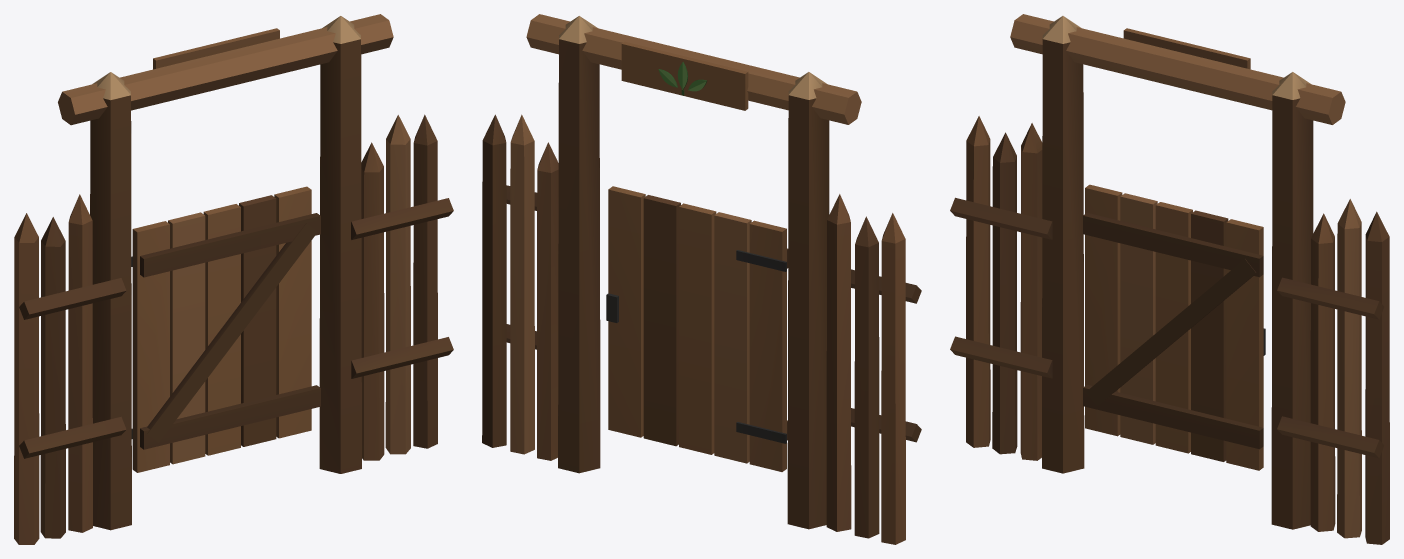
Rendered from fence_gate_low.glb.
The picture shows the model from 3 angles, left to right: view 1: azimuth 30°, elevation 25°; view 2: azimuth 150°, elevation 25°; view 3: azimuth 330°, elevation 25°; orthographic projection.
Visible parts, largest first — view 1: fence_gate, leaf; view 2: fence_gate, leaf; view 3: fence_gate, leaf.
Part boxes in pixels (box(x1,y1,x2,y2)): fence_gate: box(14, 14, 453, 544); leaf: box(131, 186, 320, 472); fence_gate: box(482, 14, 921, 544); leaf: box(606, 186, 788, 471); fence_gate: box(950, 14, 1389, 544); leaf: box(1083, 184, 1265, 470).
Bounding box in the file's own units: 2.4 × 2.42 × 0.268.
